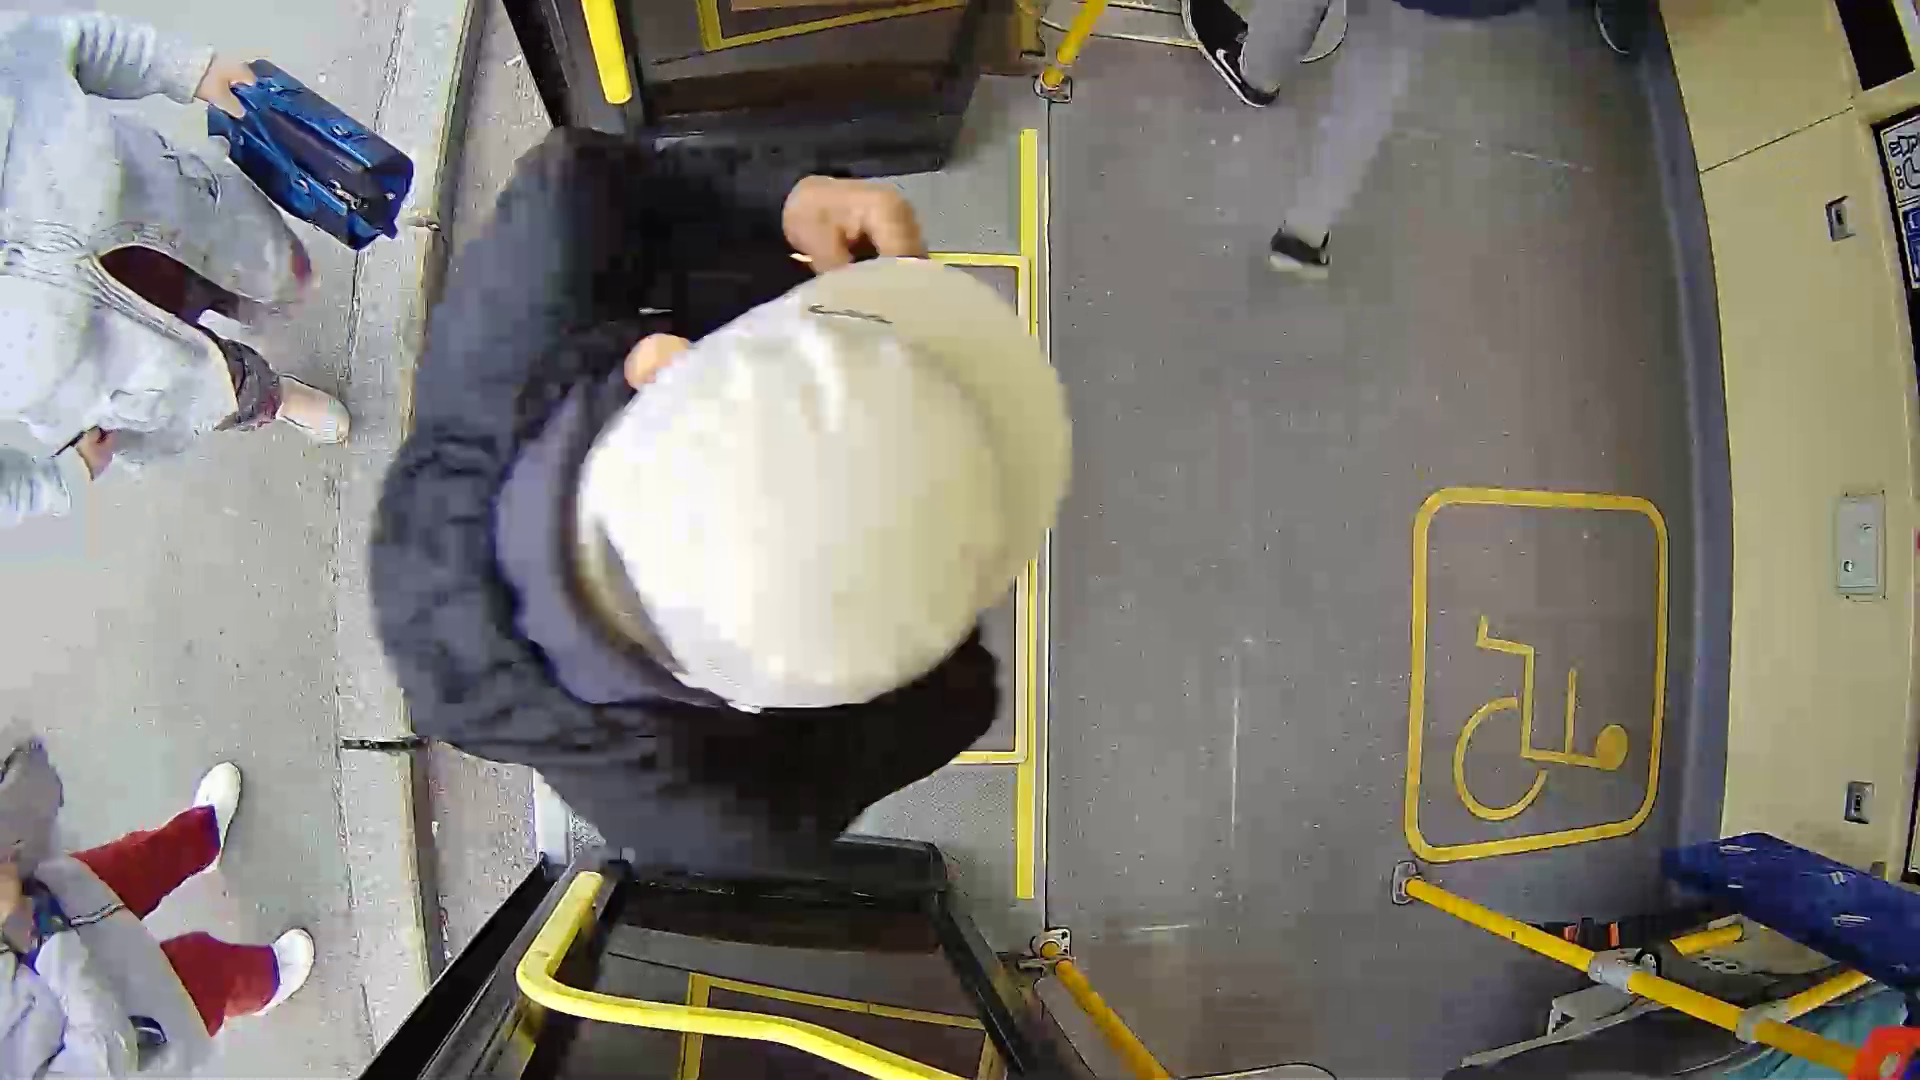person: (348, 88, 1170, 926)
